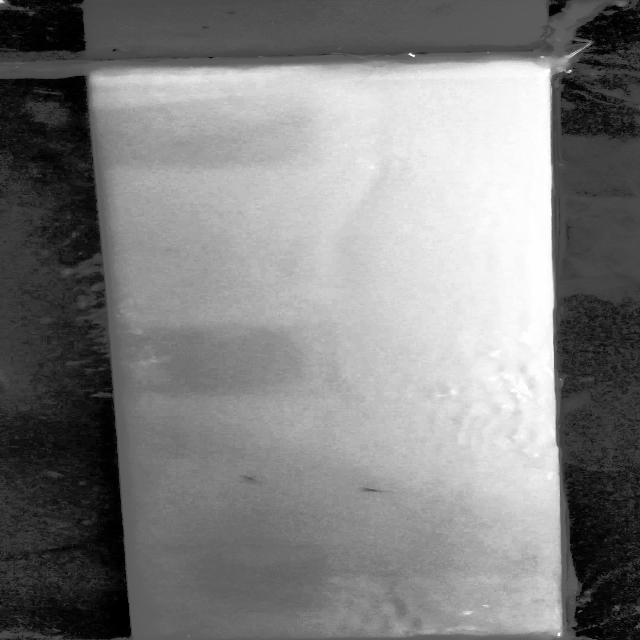shrimp: (240, 471, 272, 487), (360, 486, 397, 497)
